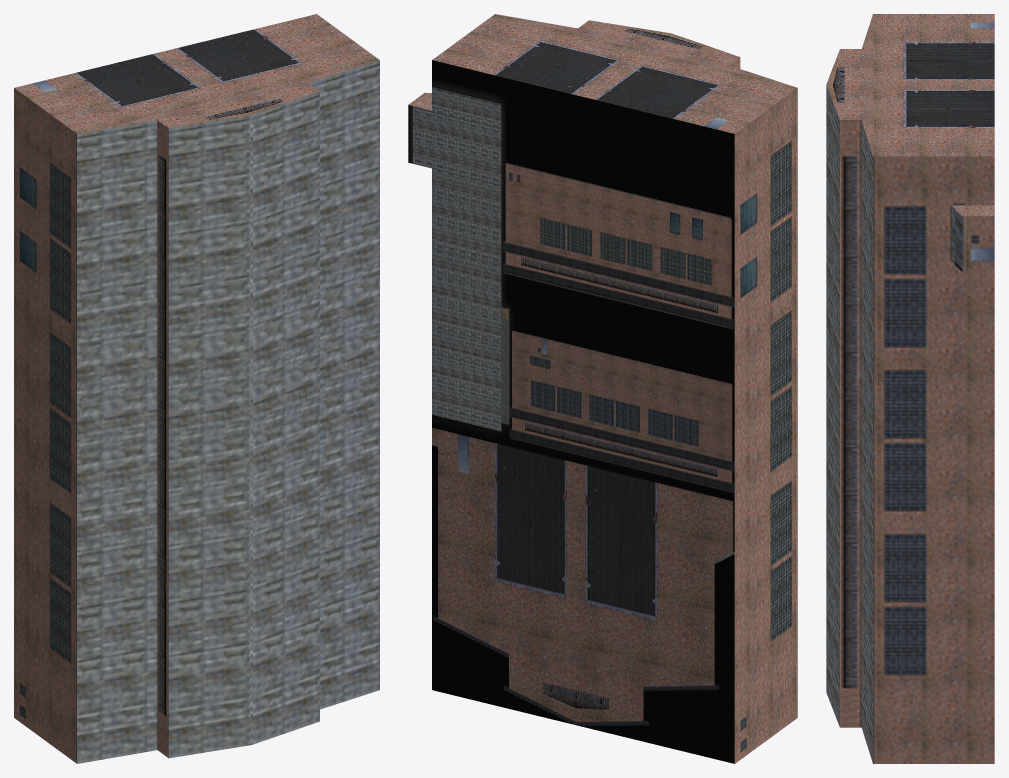
Rendered from train_hall_1_LOD1.fbx.
3 renders of one model, left to right at view 1: azimuth 30°, elevation 25°; view 2: azimuth 150°, elevation 25°; view 3: azimuth 270°, elevation 25°, orthographic. The views are drawn at different scales.
Visible parts, largest first — view 1: MDL-polym1; view 2: MDL-polym1; view 3: MDL-polym1.
Boxes of the visible parts, x1,y1,x2,y2 form: MDL-polym1: (14,14,379,763); MDL-polym1: (408,14,797,763); MDL-polym1: (826,14,994,763).
Size of the model in its own units: 40.24 by 74.16 by 18.59.
